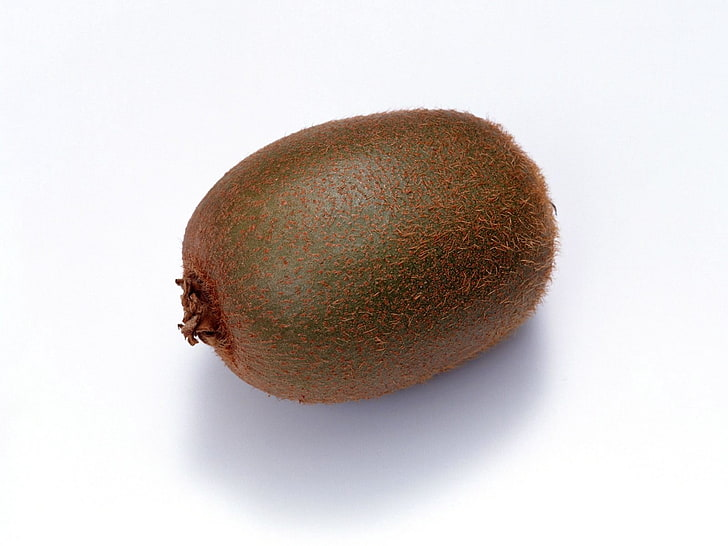kiwi: (165, 99, 601, 421)
